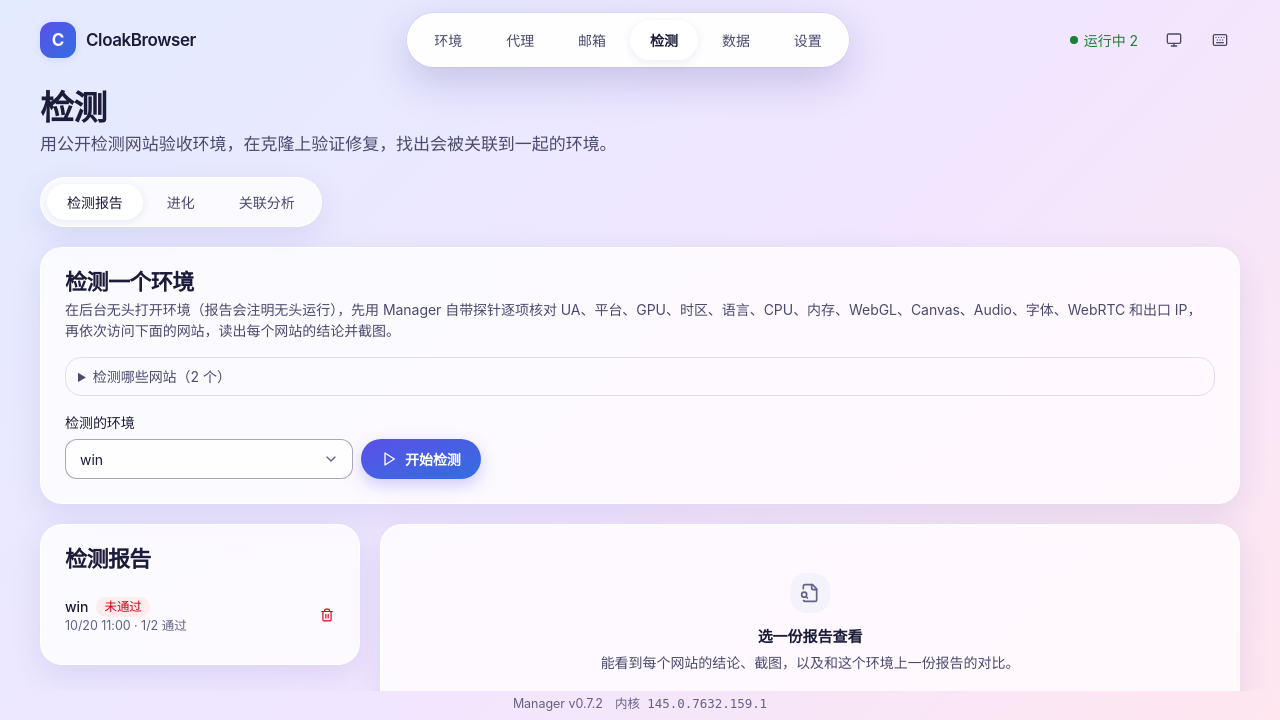
Test: detection reports › explains a check that could not start
Check: the heading "检测" is shown, box [40,87,106,128]
Click the button "开始检测": (421, 459) [361,439,481,479]
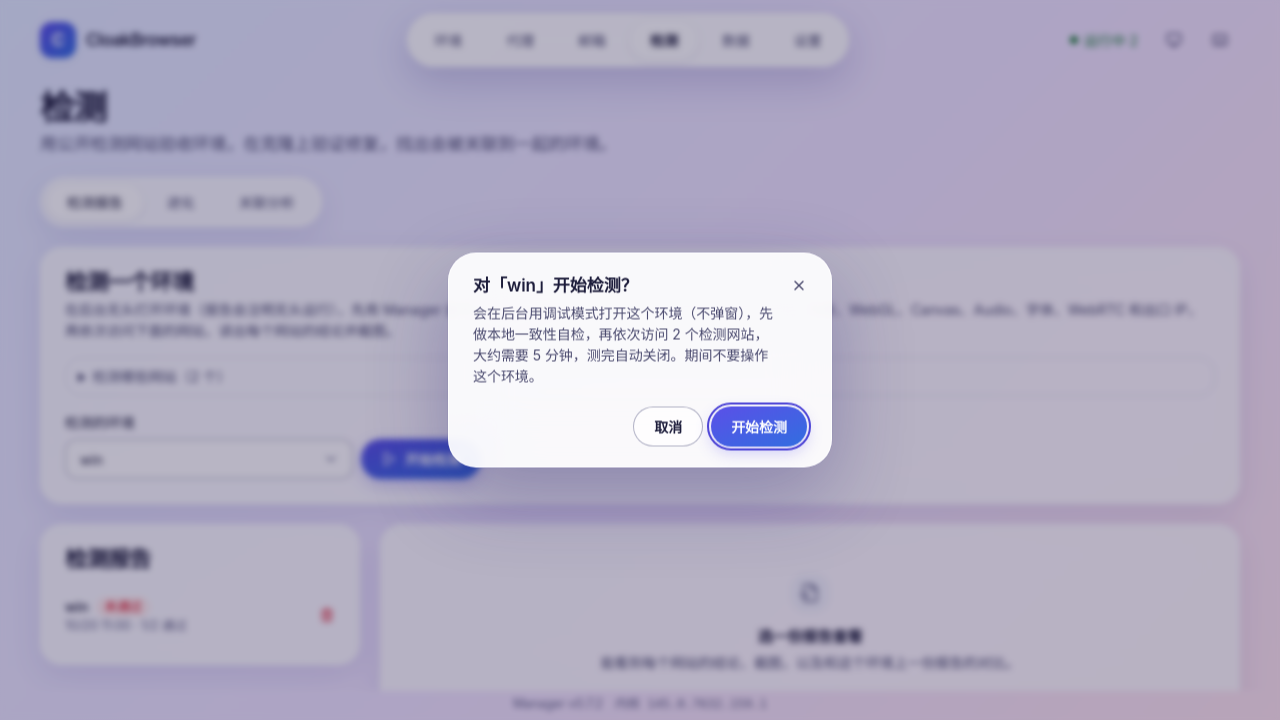
Click the button "开始检测": (759, 426) [711,406,807,446]
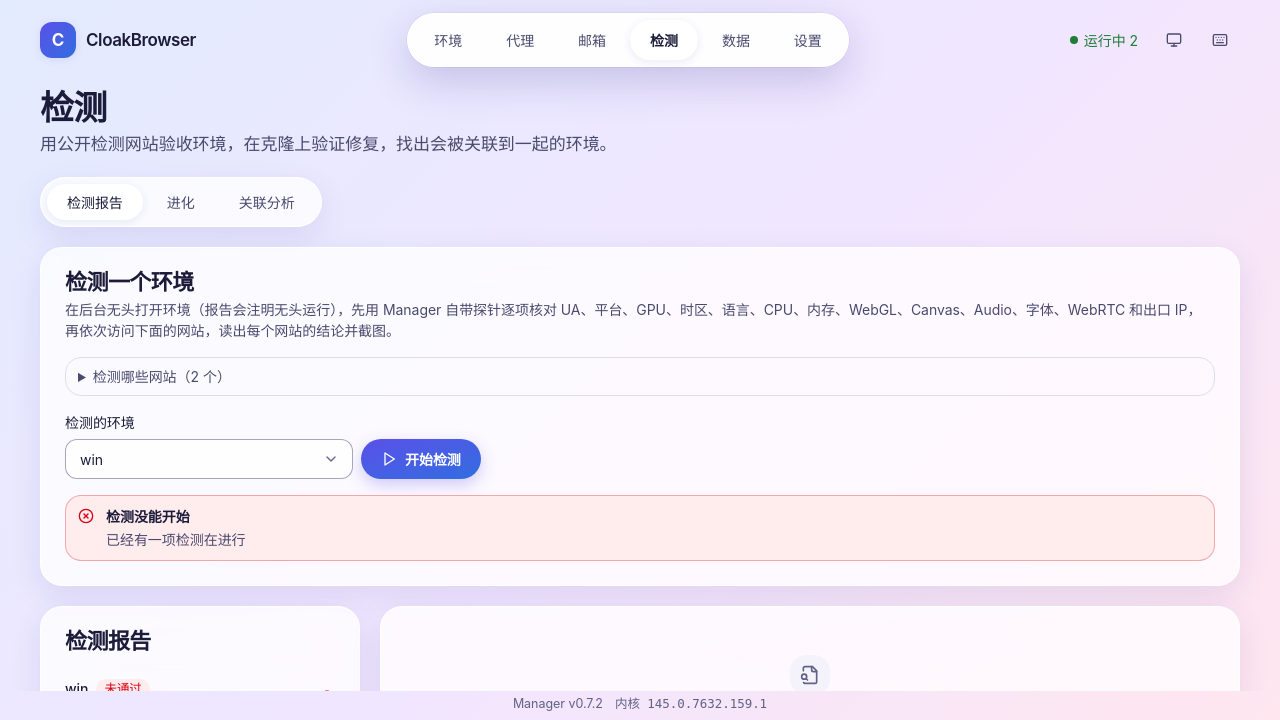
Check: the text "已经有一项检测在进行" is shown, box [106,531,246,548]
